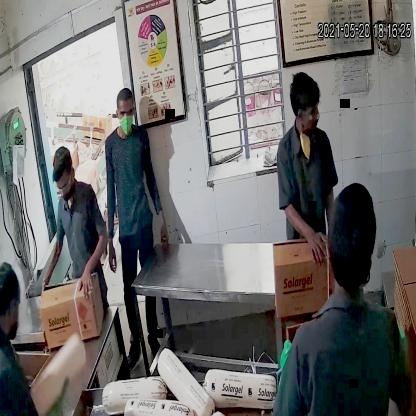goggles: (54, 174, 76, 198)
no_goggles: (115, 106, 135, 122)
